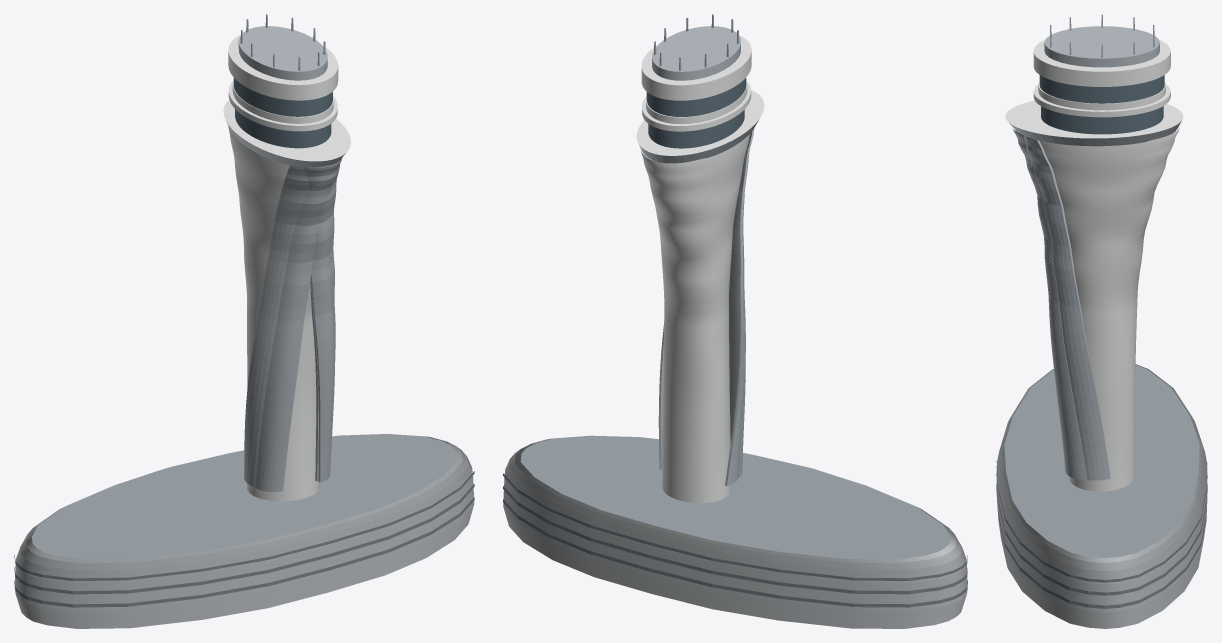
Rendered from istanbul-airport-control-tower.detail.glb.
The picture shows the model from 3 angles, left to right: view 1: azimuth 30°, elevation 25°; view 2: azimuth 150°, elevation 25°; view 3: azimuth 270°, elevation 25°; orthographic projection.
Visible parts, largest first — view 1: Istanbul Airport control tower; view 2: Istanbul Airport control tower; view 3: Istanbul Airport control tower.
Part boxes in pixels (<box>): Istanbul Airport control tower: <box>14,14,474,628</box>; Istanbul Airport control tower: <box>503,14,967,628</box>; Istanbul Airport control tower: <box>996,14,1207,628</box>.
Bounding box in the file's own units: 85.42 × 94 × 35.12.
